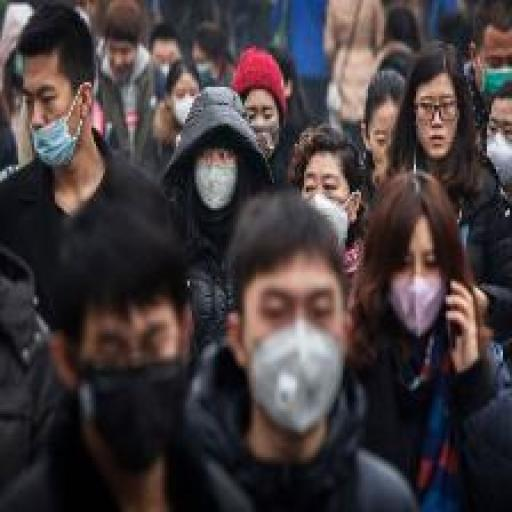mask: (78, 358, 185, 468), (248, 330, 345, 437), (16, 111, 86, 169), (388, 272, 444, 342), (307, 193, 363, 252), (192, 160, 245, 211)
